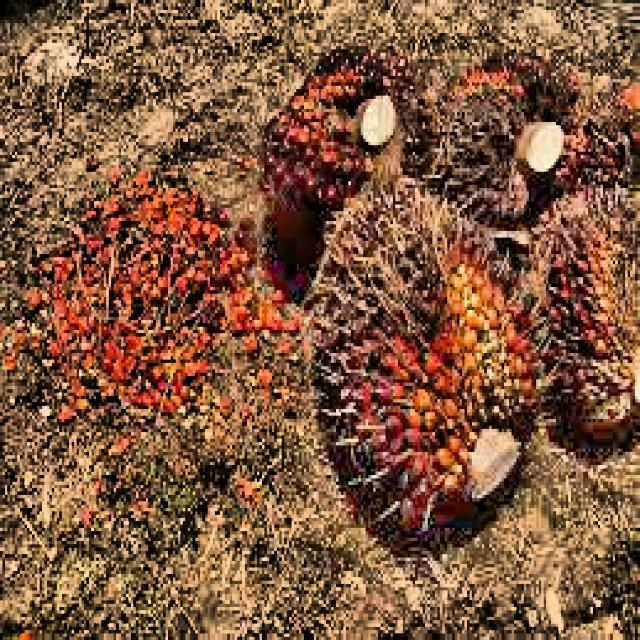FFB: (315, 187, 532, 527), (261, 45, 436, 272), (430, 45, 592, 218), (529, 196, 640, 421), (583, 77, 640, 204)
